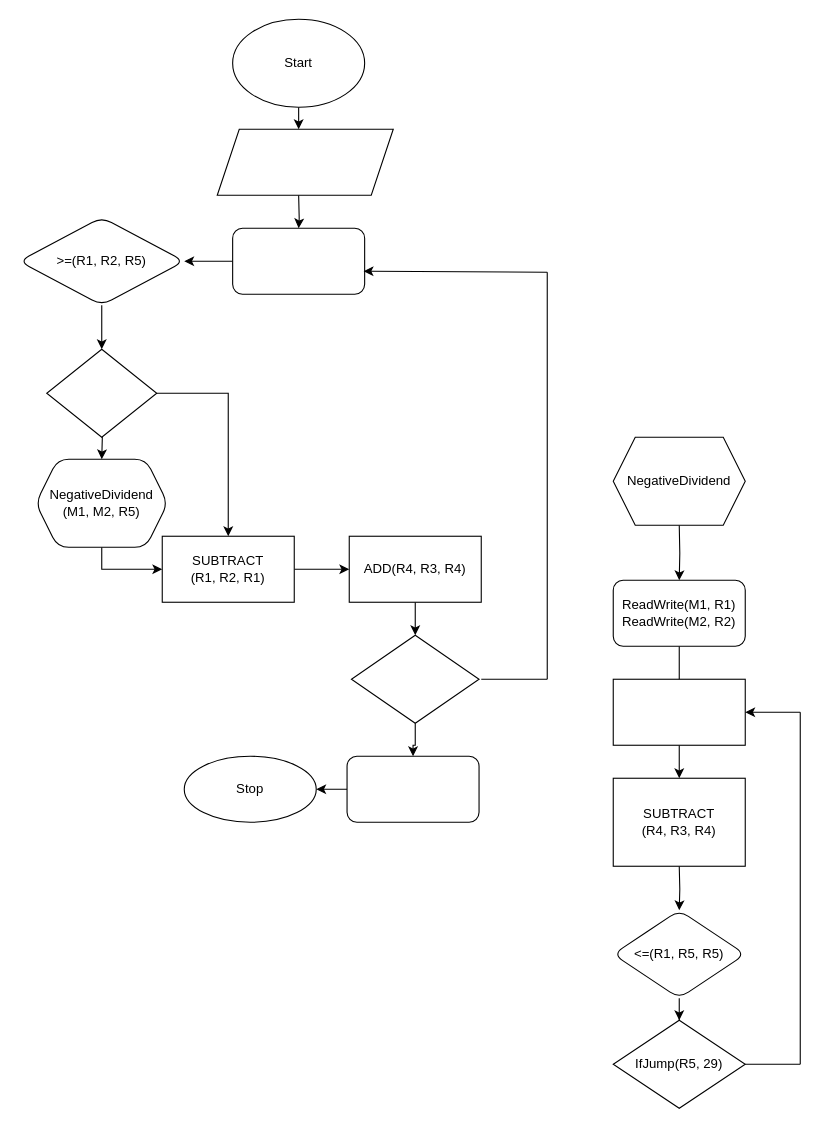
Some shapes in this 828 by 1128 pixel diagram are drawn without their labels. Each missing label, with the centre of its shape:
"ADD(R1, R2, R1)" goes at (x=678, y=711).
"IfJump(R5, 17)" goes at (x=101, y=392).
"IfJump(R6, 9)" goes at (x=414, y=678).
"R1,R2,R3,R4,R5 M1,M2" goes at (x=304, y=161).
"ReadWrite(R1, M1) ReadWrite(R2, M2)" goes at (x=298, y=260).
"ReadWrite(R1, R2) ReadWrite(R4, R1)" goes at (x=412, y=788).
